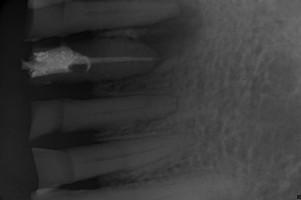Furcation Involvement: (127, 4, 206, 69)
